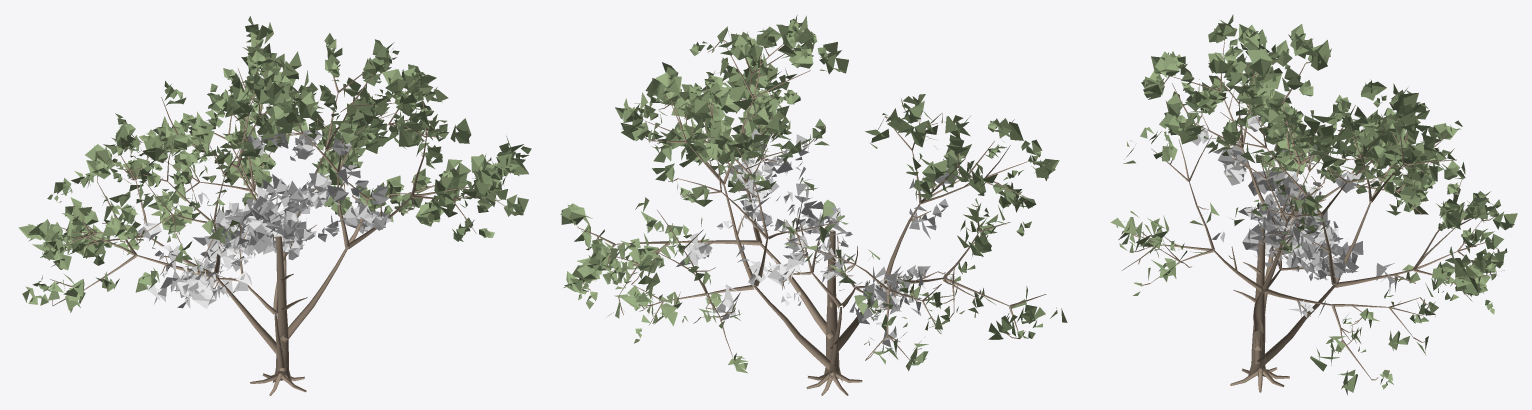
Rendered from tree-c-close.glb.
3 renders of one model, left to right at view 1: azimuth 30°, elevation 25°; view 2: azimuth 150°, elevation 25°; view 3: azimuth 270°, elevation 25°, orthographic. The views are drawn at different scales.
Parts seen in each view (by area): view 1: leaf, leafDeep, wood; view 2: leaf, wood, leafDeep; view 3: leaf, wood, leafDeep.
Part boxes in pixels (<box>): leaf: <box>18,16,531,312</box>; leafDeep: <box>138,127,392,308</box>; wood: <box>42,42,505,395</box>; leaf: <box>560,15,1067,373</box>; wood: <box>577,33,1046,395</box>; leafDeep: <box>676,128,957,347</box>; leaf: <box>1110,14,1517,395</box>; wood: <box>1121,39,1496,392</box>; leafDeep: <box>1191,112,1396,317</box>.
Size of the model in its own units: 20.84 by 13.59 by 15.29.
